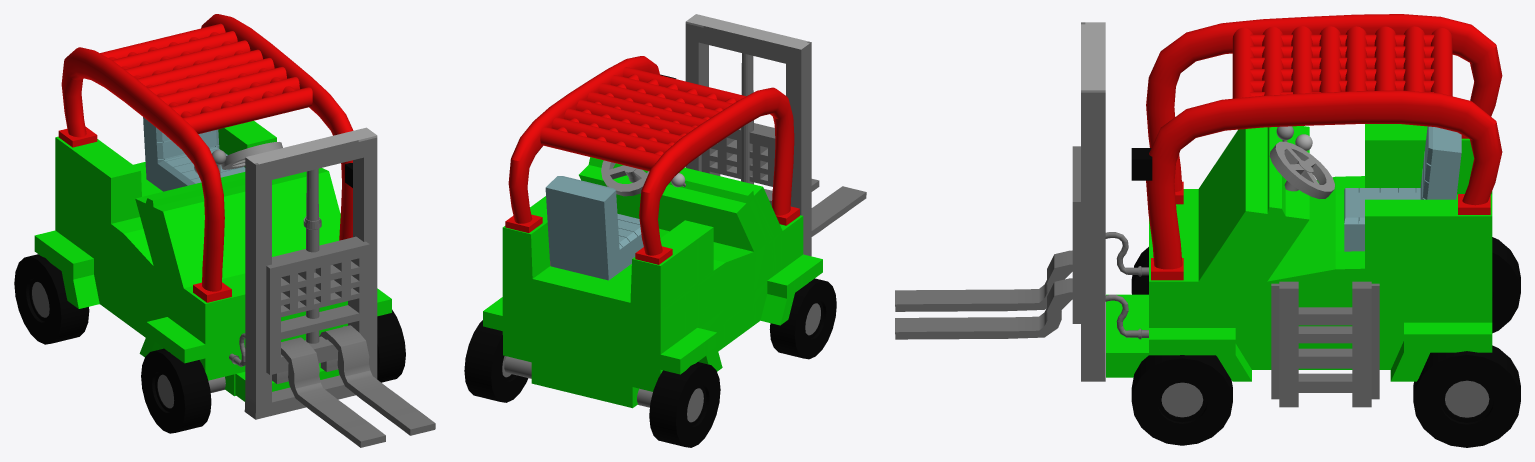
File: TRUCK 111.fbx
3 renders of one model, left to right at view 1: azimuth 30°, elevation 25°; view 2: azimuth 150°, elevation 25°; view 3: azimuth 270°, elevation 25°, orthographic. The views are drawn at different scales.
Parts seen in each view (by area): view 1: polySurface135, polySurface140, polySurface144, polySurface120, polySurface128, polySurface146, polySurface145, polySurface158, polySurface122, polySurface121, polySurface130, polySurface139 (+14 smaller); view 2: polySurface135, polySurface140, polySurface120, polySurface160, polySurface158, polySurface122, polySurface128, polySurface116, polySurface144, polySurface132, polySurface145, polySurface136 (+12 smaller); view 3: polySurface135, polySurface122, polySurface120, polySurface140, polySurface116, polySurface154, polySurface130, polySurface146, polySurface145, polySurface160, polySurface155, polySurface138 (+21 smaller).
Boxes of the visible parts, box(x1,y1,x2,y2) form: polySurface135: box(34, 120, 391, 401); polySurface140: box(244, 127, 377, 419); polySurface144: box(266, 236, 369, 374); polySurface120: box(61, 47, 224, 291); polySurface128: box(141, 348, 211, 433); polySurface146: box(319, 325, 435, 435); polySurface145: box(272, 337, 385, 447); polySurface158: box(14, 254, 89, 344); polySurface122: box(201, 14, 353, 240); polySurface121: box(183, 87, 312, 133); polySurface130: box(377, 309, 405, 382); polySurface139: box(147, 147, 245, 191); polySurface135: box(483, 157, 822, 408); polySurface140: box(685, 14, 811, 256); polySurface120: box(639, 87, 794, 255); polySurface160: box(545, 176, 620, 280); polySurface158: box(649, 362, 720, 447); polySurface122: box(508, 56, 659, 223); polySurface128: box(769, 278, 836, 359); polySurface116: box(464, 320, 528, 402); polySurface144: box(701, 123, 775, 205); polySurface132: box(540, 127, 661, 171); polySurface145: box(811, 186, 866, 236); polySurface136: box(551, 117, 671, 153); polySurface135: box(1106, 124, 1492, 381); polySurface122: box(1146, 90, 1502, 269); polySurface120: box(1146, 14, 1502, 192); polySurface140: box(1081, 22, 1105, 381); polySurface116: box(1413, 345, 1520, 447); polySurface154: box(1292, 281, 1371, 407); polySurface130: box(1131, 355, 1232, 445); polySurface146: box(895, 278, 1072, 339); polySurface145: box(895, 250, 1072, 311); polySurface160: box(1420, 126, 1461, 199); polySurface155: box(1279, 281, 1298, 407); polySurface138: box(1269, 141, 1334, 198).
Size of the model in its own units: 9 by 11.27 by 19.19.
